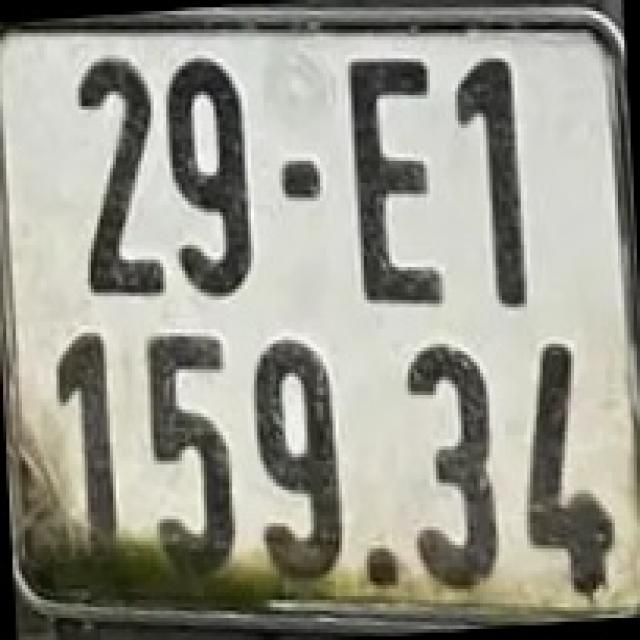1: (34, 320, 132, 580), (452, 51, 543, 311)
2: (69, 48, 166, 304)
3: (399, 337, 505, 592)
4: (518, 333, 621, 600)
5: (141, 326, 242, 574)
9: (248, 333, 351, 581), (163, 51, 264, 300)
E: (339, 44, 452, 311)
